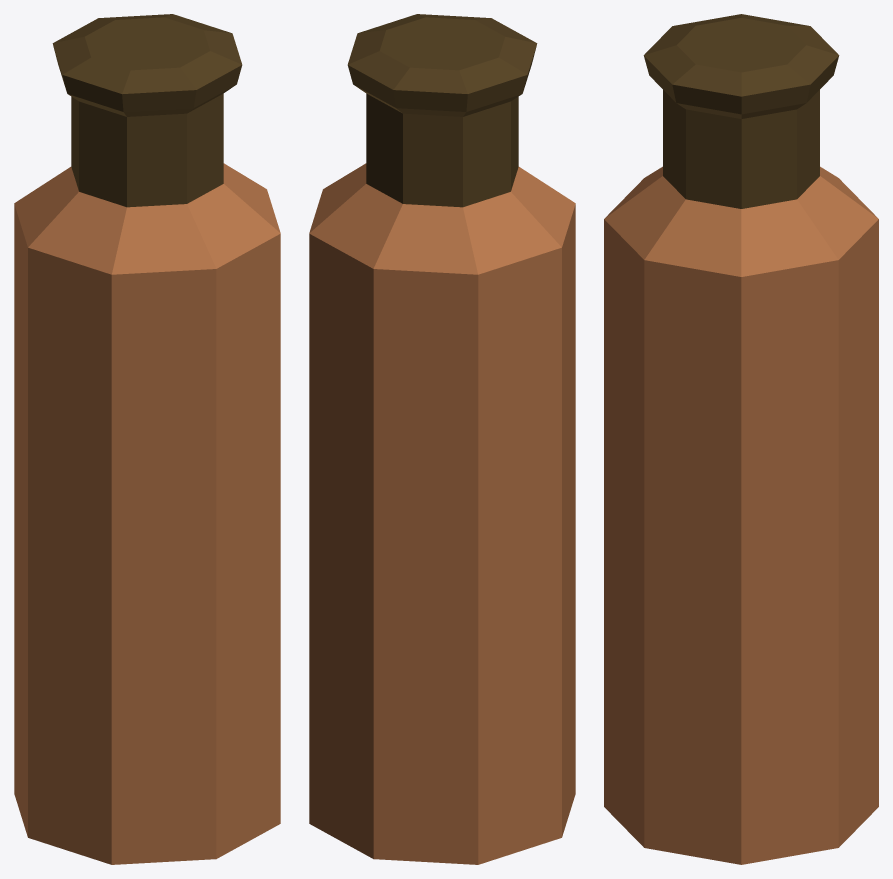
Rendered from Prop_Beauty_08.fbx.
3 renders of one model, left to right at view 1: azimuth 30°, elevation 25°; view 2: azimuth 150°, elevation 25°; view 3: azimuth 270°, elevation 25°, orthographic.
Parts seen in each view (by area): view 1: Prop_Beauty_08; view 2: Prop_Beauty_08; view 3: Prop_Beauty_08.
Part boxes in pixels (left/top/right/bottom): Prop_Beauty_08: left=14, top=14, right=280, bottom=864; Prop_Beauty_08: left=309, top=14, right=575, bottom=864; Prop_Beauty_08: left=604, top=14, right=878, bottom=864.
Bounding box in the file's own units: 6.71 × 20.53 × 6.71.
